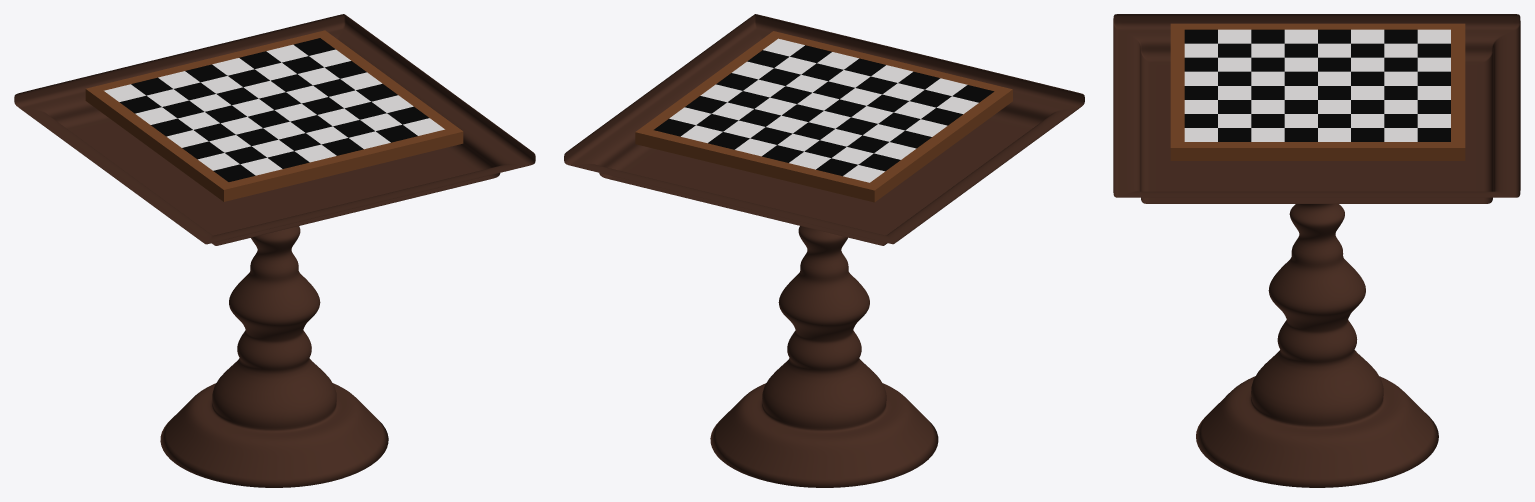
The model's file is board.glb.
3 renders of one model, left to right at view 1: azimuth 30°, elevation 25°; view 2: azimuth 150°, elevation 25°; view 3: azimuth 270°, elevation 25°, orthographic. The views are drawn at different scales.
Parts seen in each view (by area): view 1: table.001; view 2: table.001; view 3: table.001.
Part boxes in pixels (x1,y1,x2,y2): table.001: (14,14,535,487); table.001: (564,14,1084,487); table.001: (1113,14,1520,487).
Bounding box in the file's own units: 0.8019 × 0.7646 × 0.8019.
